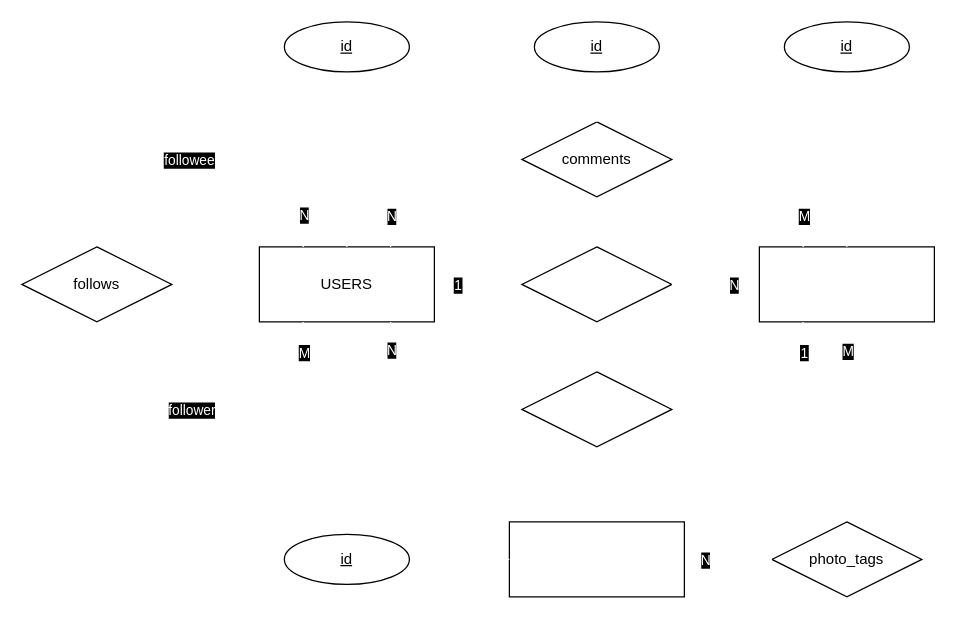
This 956x619 diagram has some shape labels left out. The shapes that lost their labels are listed below. From the top down, each one's centre as x and y in pixels, then its label:
pixel 596 284: posts
pixel 846 284: PHOTOS
pixel 596 409: likes
pixel 596 559: TAGS
